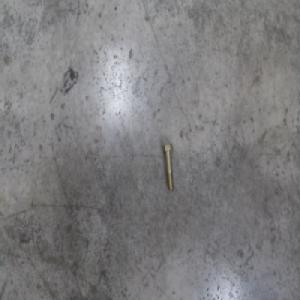Bolt: (160, 142, 173, 191)
